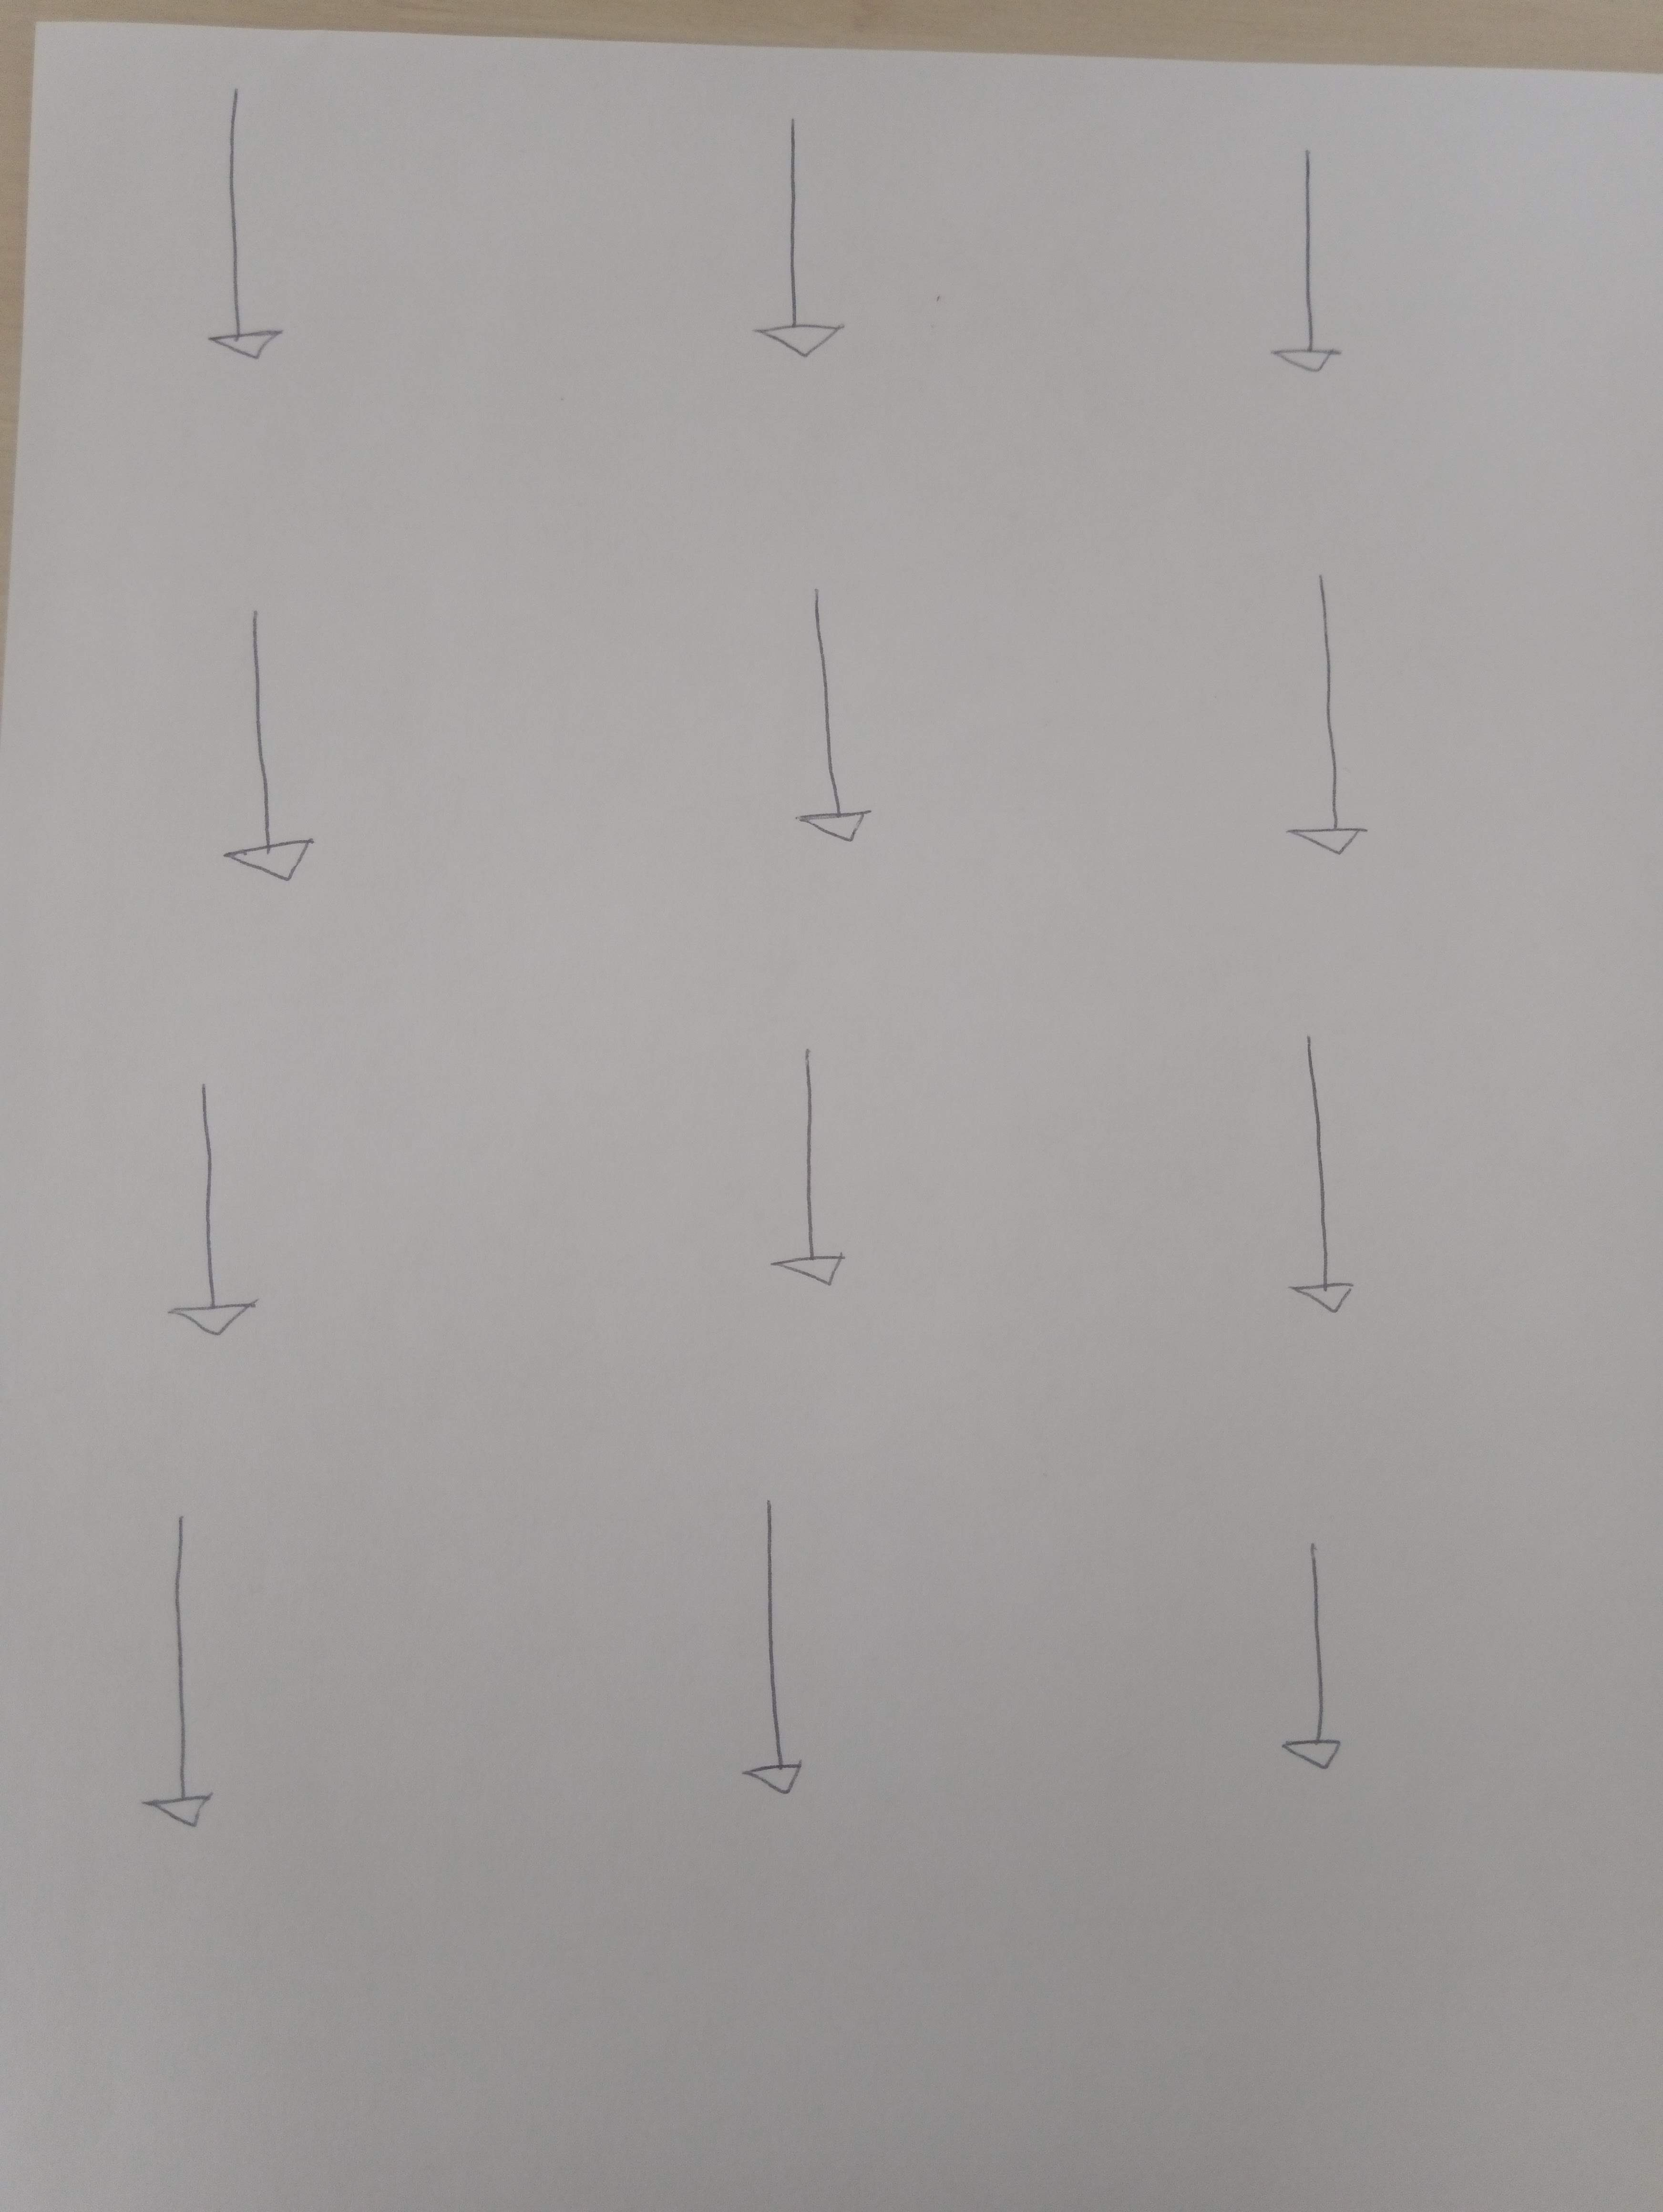arrow_line_down: (210, 581, 341, 892), (706, 1487, 826, 1821), (128, 1503, 236, 1847), (1275, 1007, 1380, 1348), (190, 89, 306, 396), (776, 581, 896, 875), (159, 1058, 276, 1341), (1277, 569, 1370, 880), (1277, 1528, 1380, 1793), (769, 1027, 854, 1309), (767, 98, 849, 388), (1275, 155, 1357, 400)
